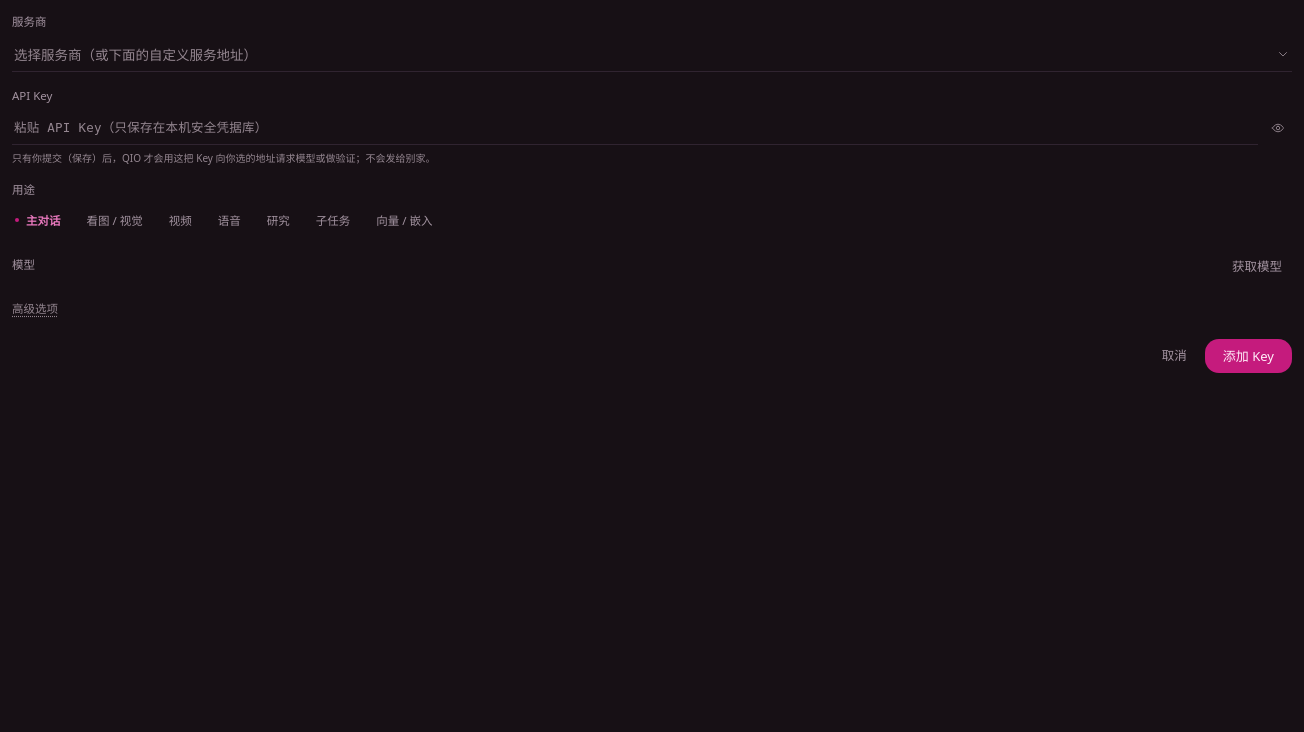
Test case: Key 接入 · 正常流程 › 高级选项默认收起；展开后才有地址 / 协议 / 手动模型名 / 用量上限
Click the button with class "advanced-toggle".
click(35, 309)  # box [12,295,58,323]
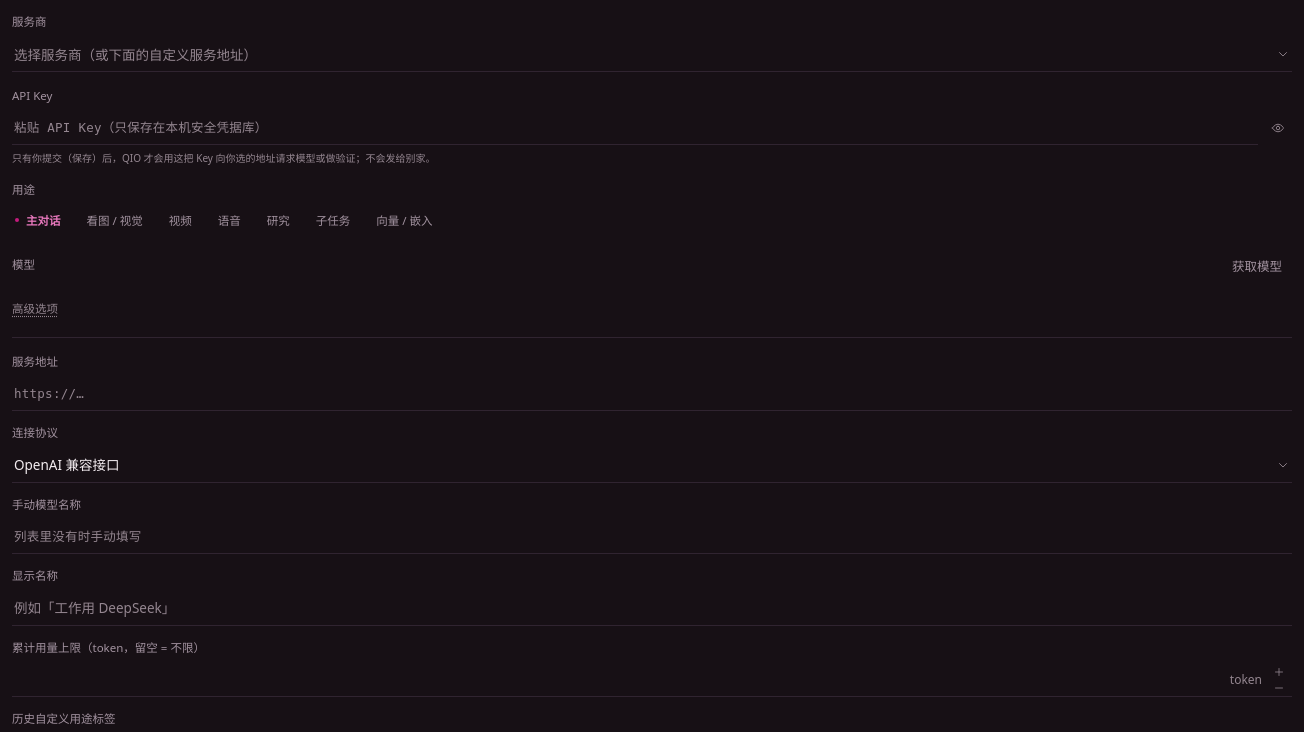
Now the field with id "key-endpoint" is shown, box [12,377,1292,411]
Now the field with id "key-manual-model" is shown, box [12,520,1292,554]
Now the field with id "key-note" is shown, box [12,592,1292,626]
